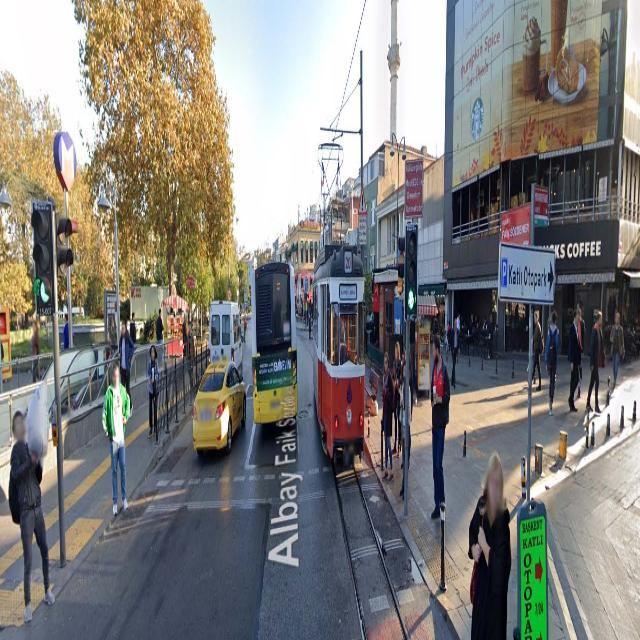yesil: (33, 204, 53, 318), (406, 224, 417, 322)
